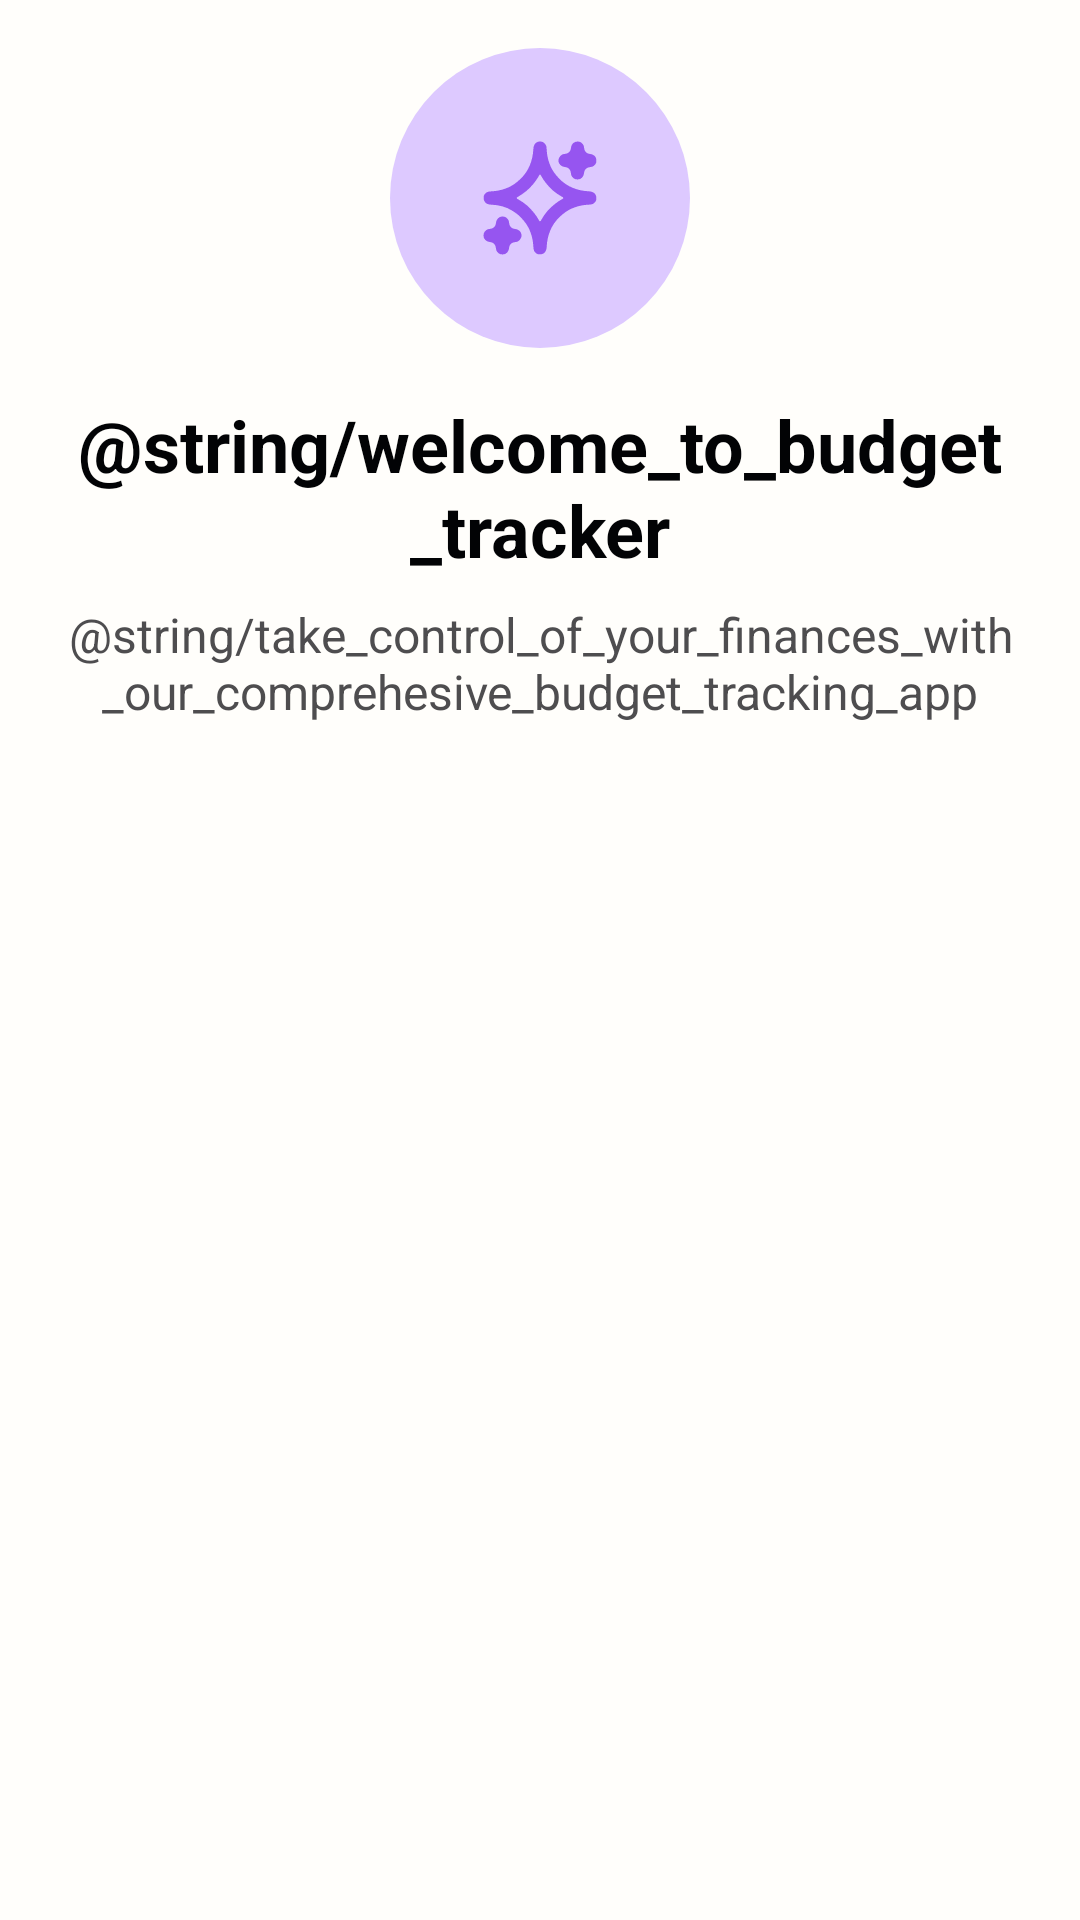

Named icons in this screenshot (1080w x 1920h) and their bounding boxes, BBox(x1, y1, x2, y2):
circle sparkle: BBox(390, 48, 690, 348)
